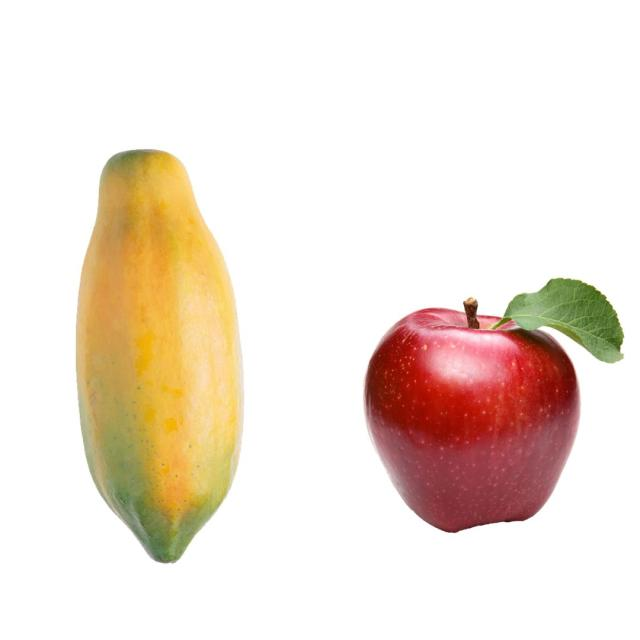Apel: (365, 304, 581, 533)
Pepaya: (74, 147, 244, 563)
